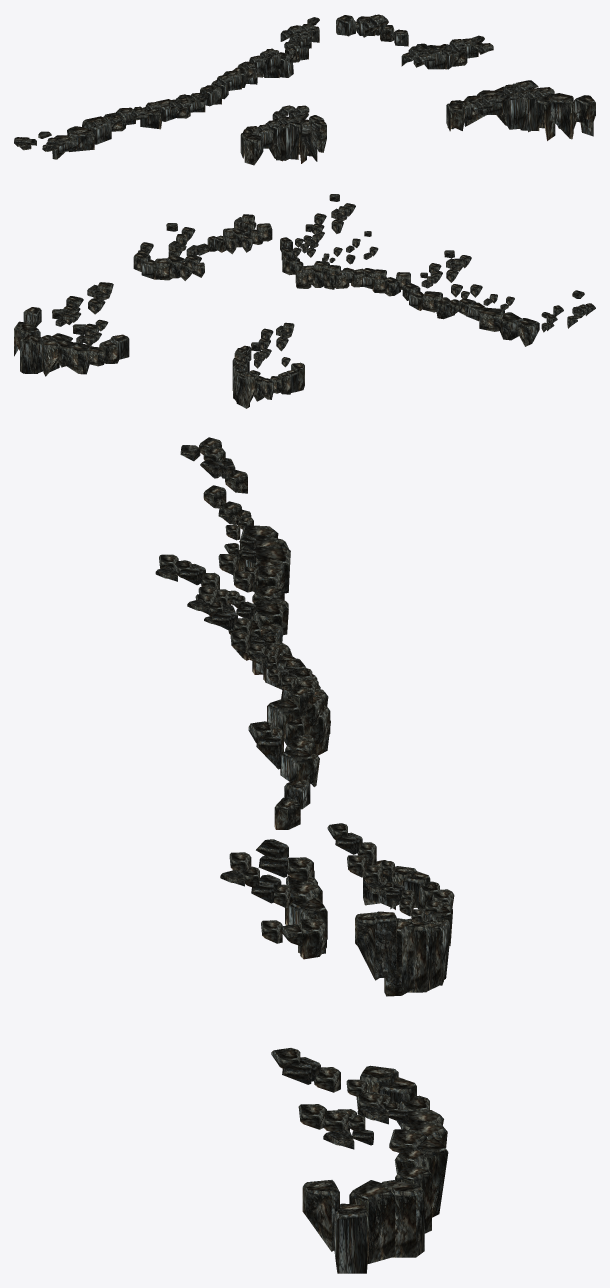
3 renders of one model, top to bottom at view 1: azimuth 30°, elevation 25°; view 2: azimuth 150°, elevation 25°; view 3: azimuth 270°, elevation 25°, orthographic. The views are drawn at different scales.
Parts seen in each view (by area): view 1: mesh0; view 2: mesh0; view 3: mesh0.
Boxes of the visible parts, x1,y1,x2,y2 form: mesh0: (14, 14, 595, 165); mesh0: (14, 194, 595, 408); mesh0: (155, 437, 454, 1273).
Bounding box in the file's own units: 127 × 44.9 × 30.16.
